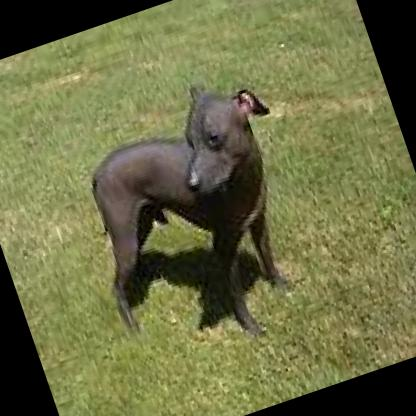Mexican_hairless: (53, 58, 334, 371)
